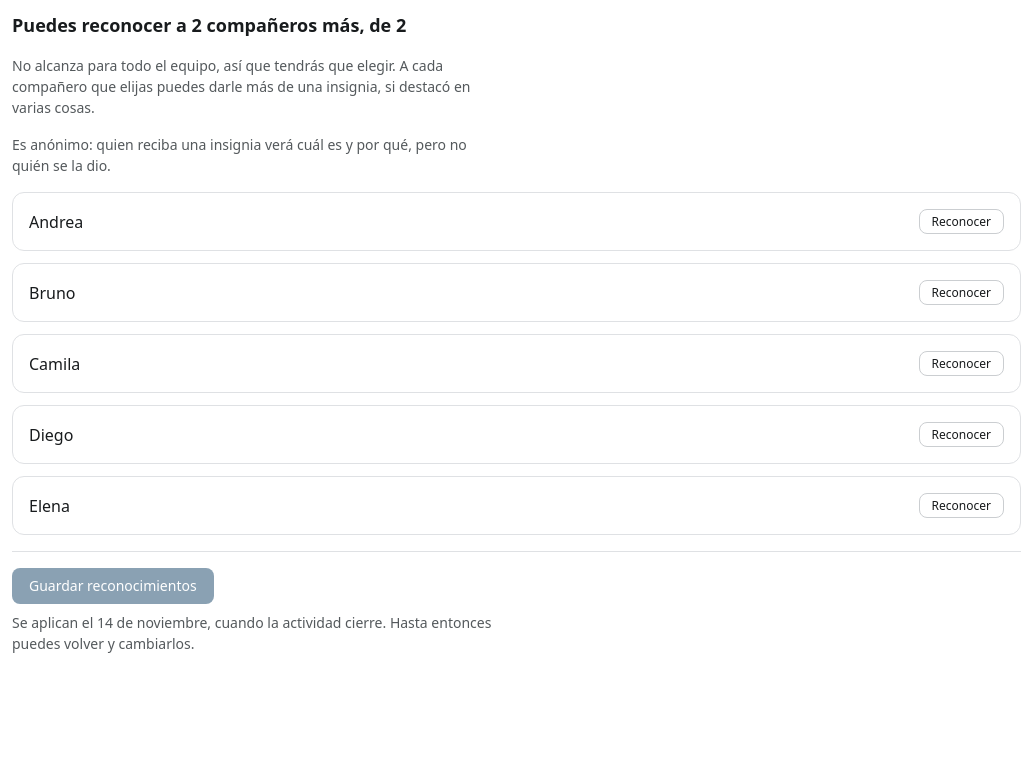
it: RitualReconocimiento › impide elegir a más compañeros de los que el presupuesto permite
Click the button with aria-label "Reconocer a " at coordinates (961, 222), box [919, 209, 1004, 234]
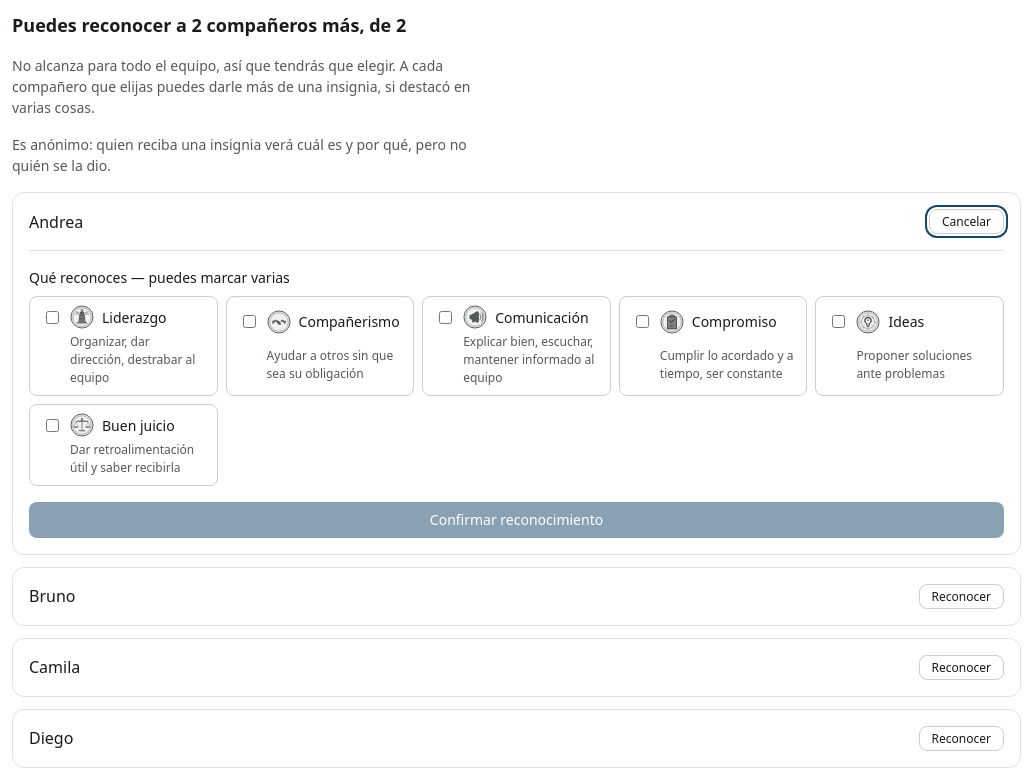
Click the checkbox labelled "Liderazgo Organizar, dar dirección, destrabar al equipo" at coordinates (52, 317), box [46, 310, 59, 324]
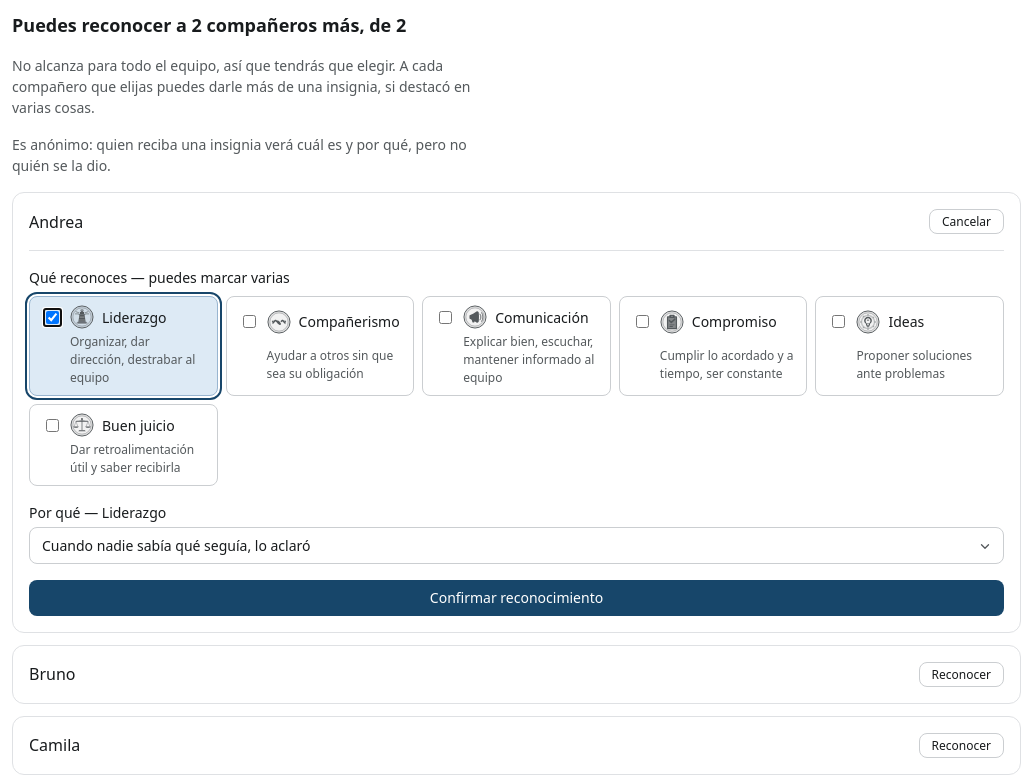
Click the button "Confirmar reconocimiento" at coordinates (516, 598), box [29, 580, 1004, 616]
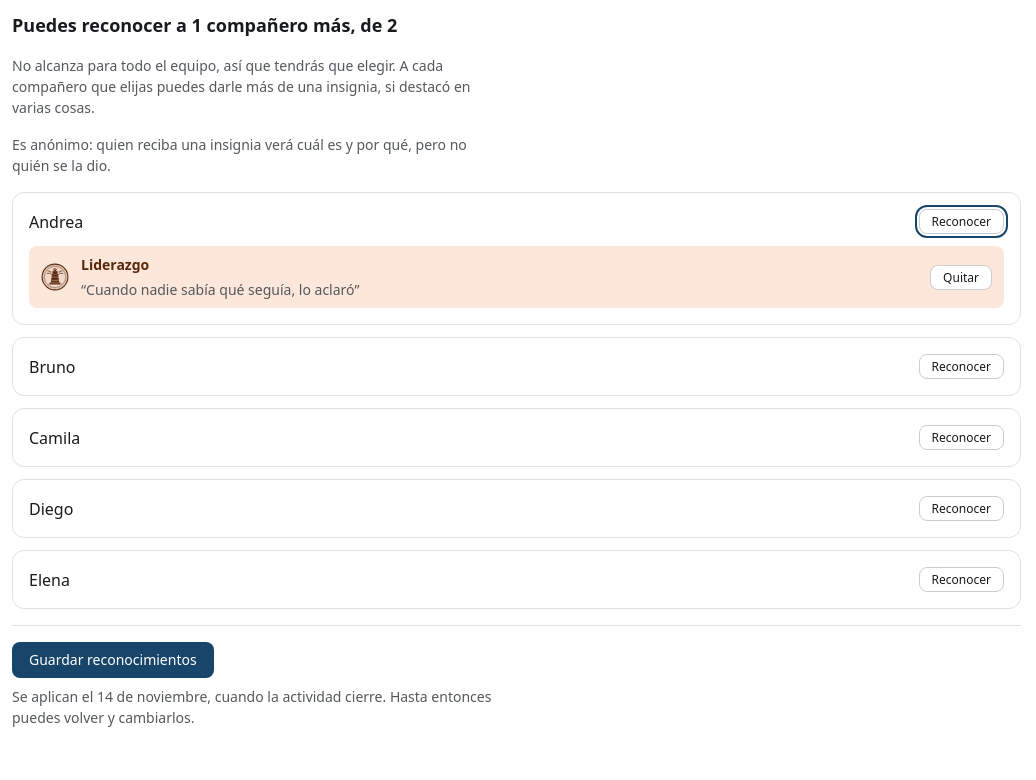
Click the button with aria-label "Reconocer a " at coordinates (961, 366), box [919, 354, 1004, 379]
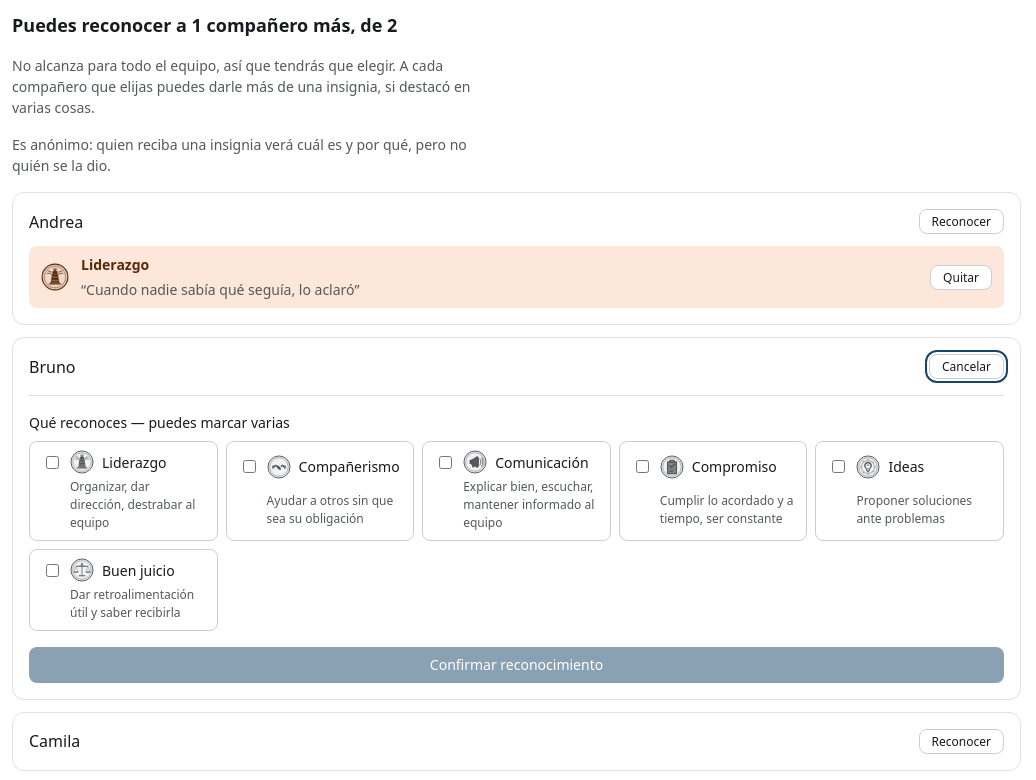
Click the checkbox labelled "Liderazgo Organizar, dar dirección, destrabar al equipo" at coordinates (52, 462), box [46, 456, 59, 468]
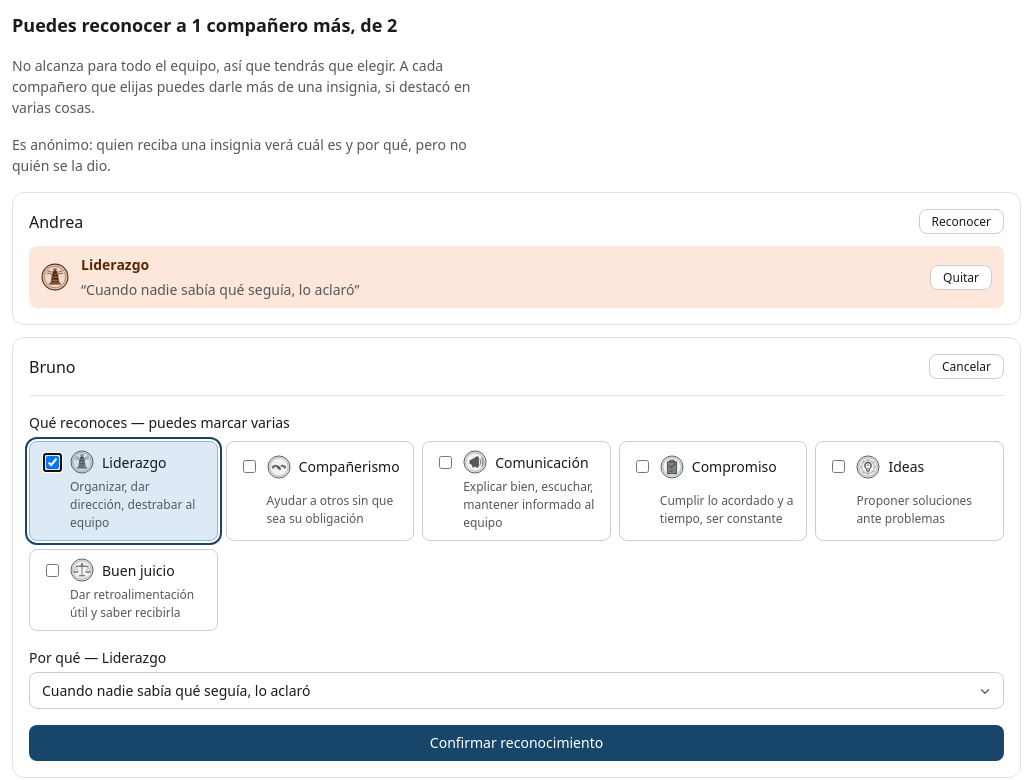
Click the button "Confirmar reconocimiento" at coordinates (516, 743), box [29, 725, 1004, 760]
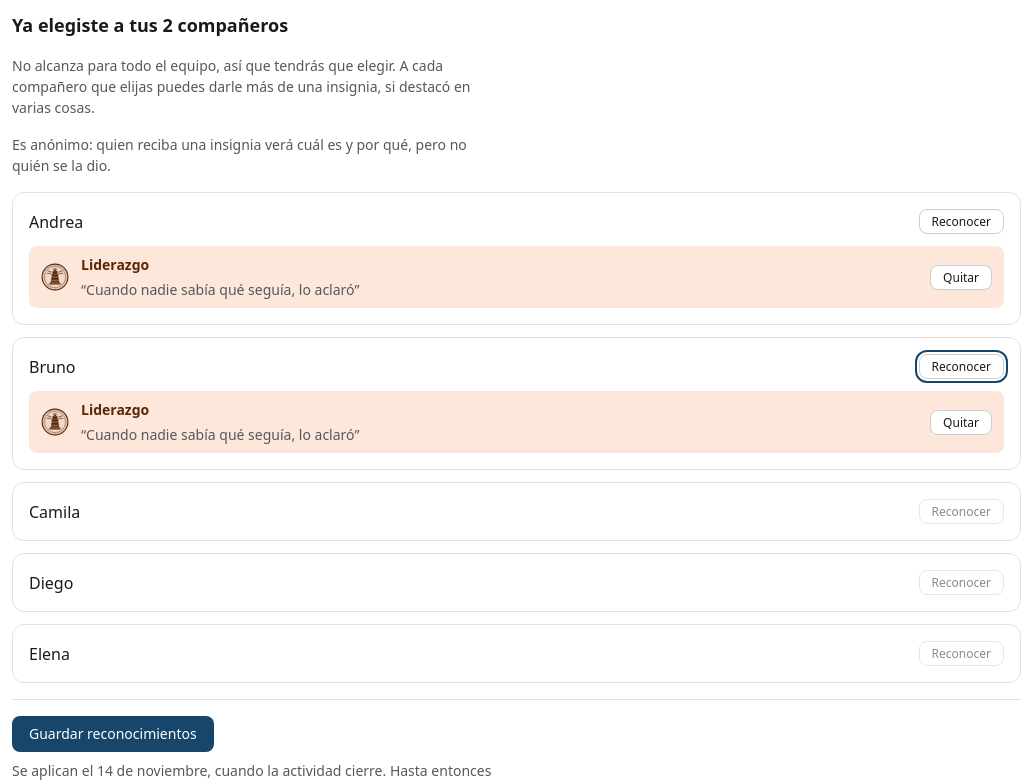
Check: the text "Ya elegiste a tus 2 compañeros" is shown, box [12, 13, 288, 37]
Check: the button with aria-label "Reconocer a " is disabled, box [919, 499, 1004, 524]
